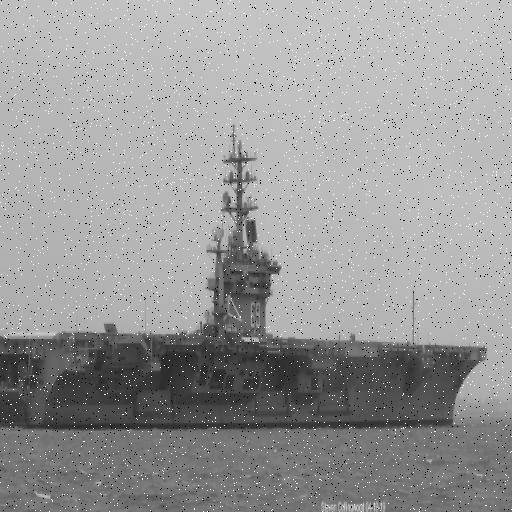Portanaves: (1, 111, 492, 439)
